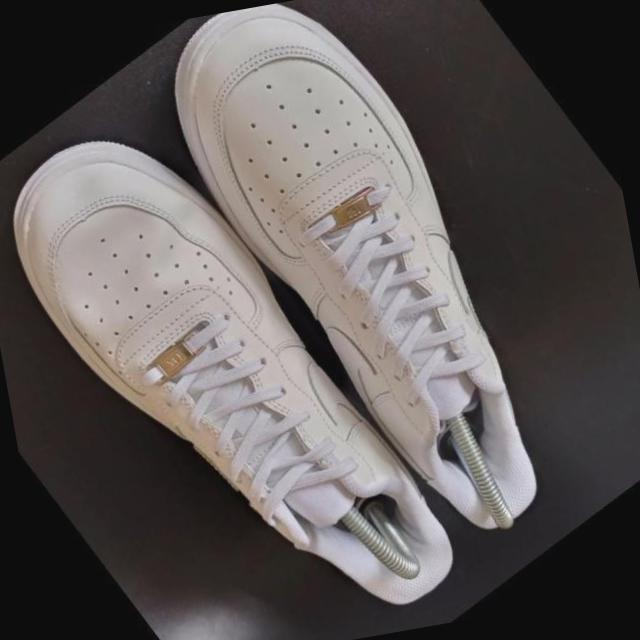nike_fake_airforce: (109, 0, 640, 611), (0, 41, 492, 640)
